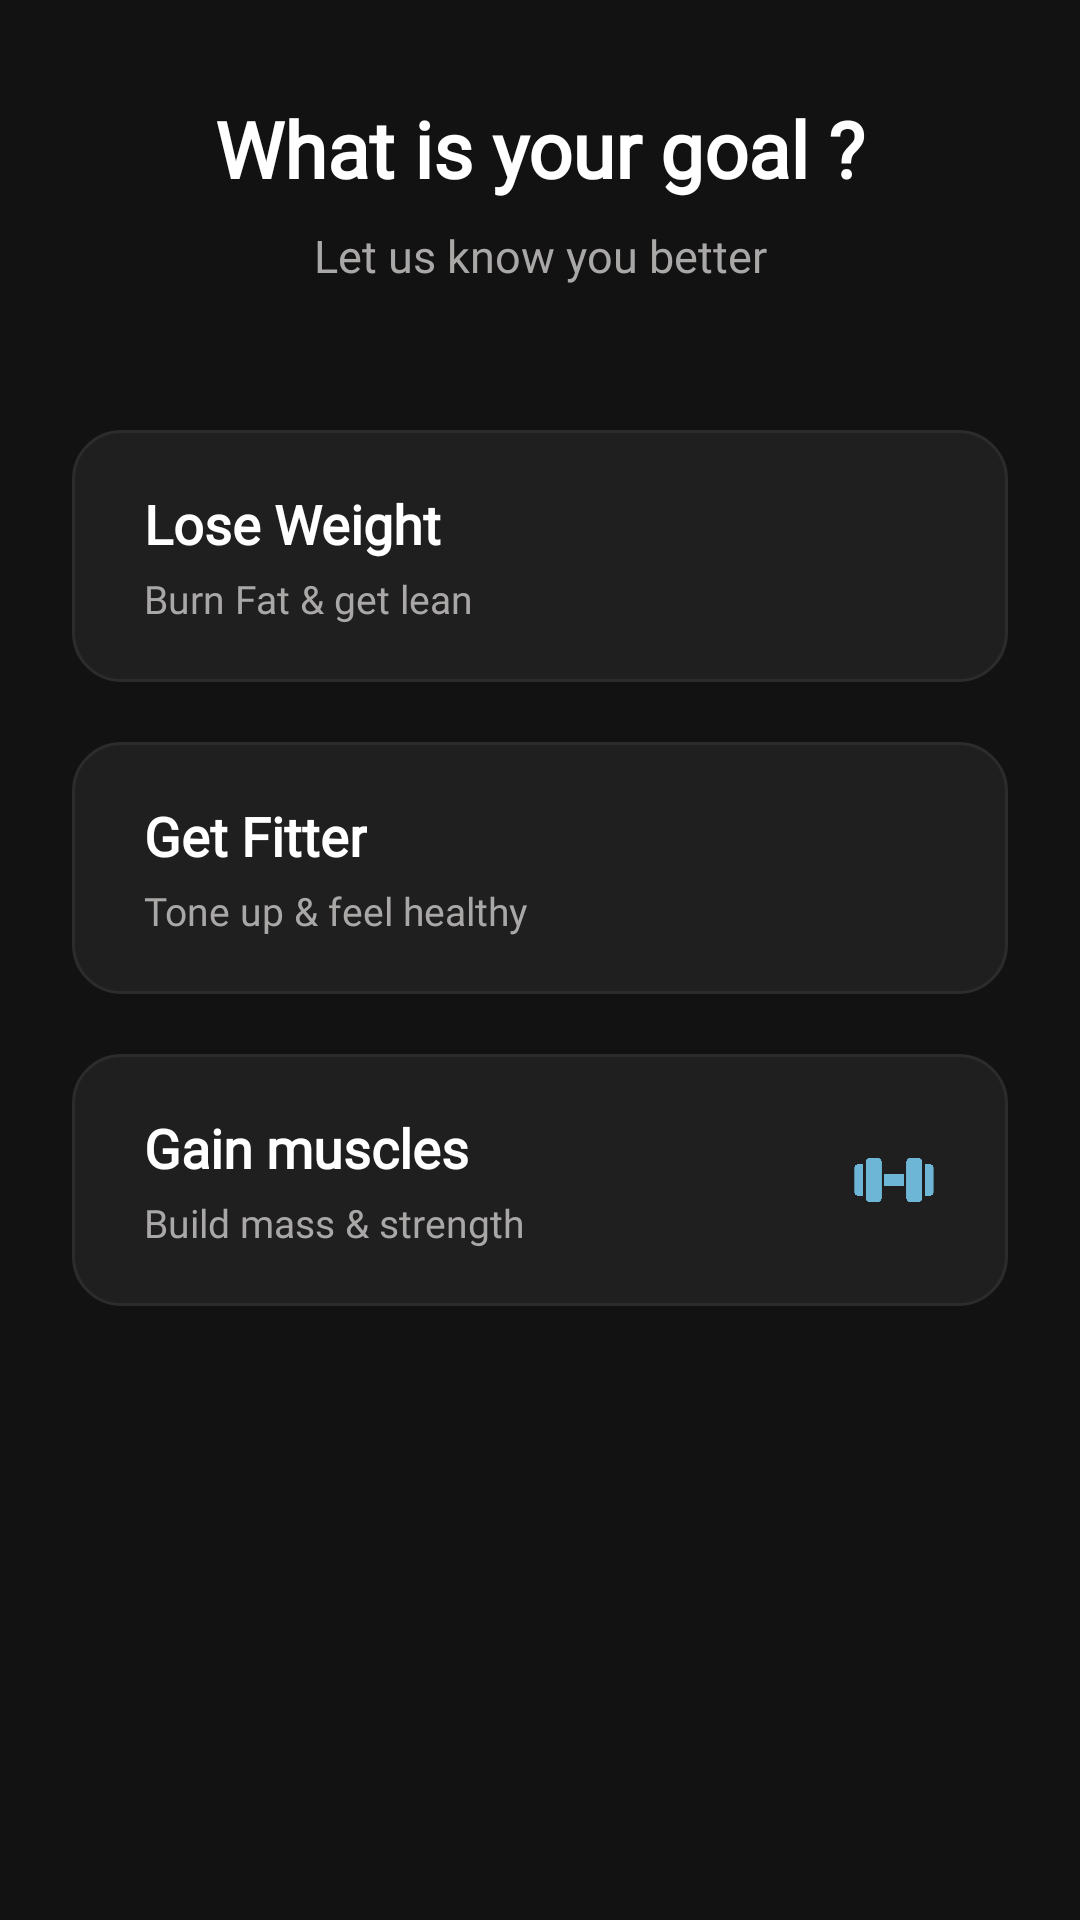

Where icons sit on this 1080×1920 app screen, as rect(x1, y1, x2, y2):
Gain muscles: rect(854, 1158, 934, 1202)
